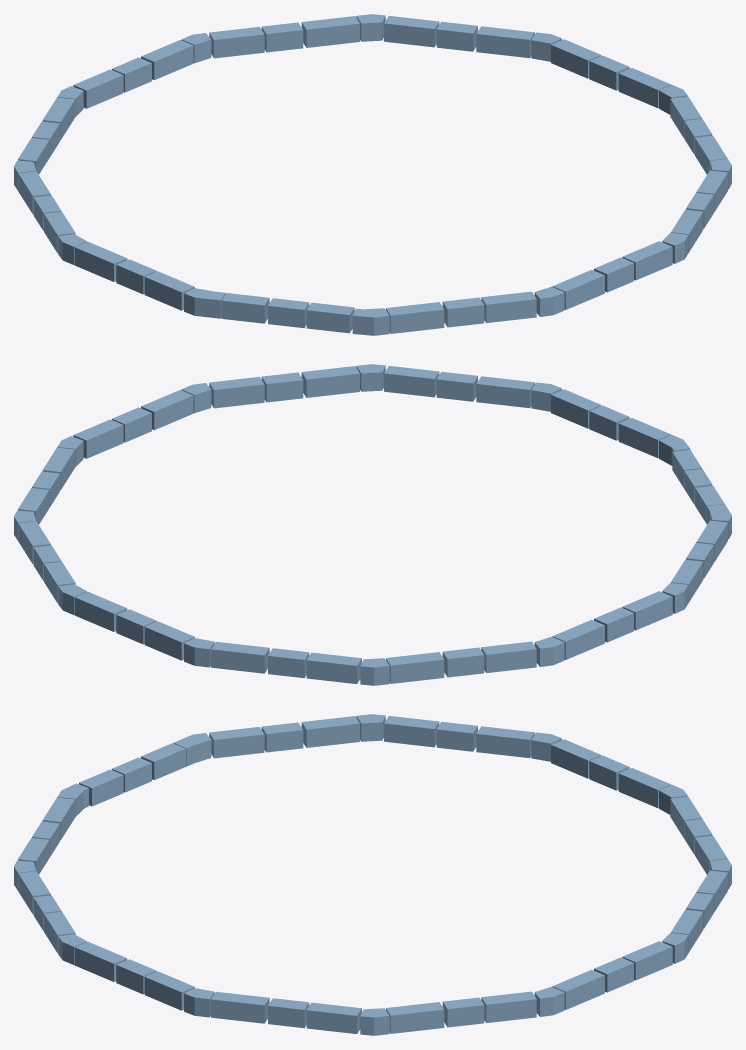
Rendered from Wall_Tower_Separator_01.fbx.
3 renders of one model, top to bottom at view 1: azimuth 30°, elevation 25°; view 2: azimuth 150°, elevation 25°; view 3: azimuth 270°, elevation 25°, orthographic.
Parts seen in each view (by area): view 1: Wall_TowerSeparator_01; view 2: Wall_TowerSeparator_01; view 3: Wall_TowerSeparator_01.
Boxes of the visible parts, x1,y1,x2,y2 form: Wall_TowerSeparator_01: (14, 14, 731, 335); Wall_TowerSeparator_01: (14, 364, 731, 685); Wall_TowerSeparator_01: (14, 714, 731, 1035).
Bounding box in the file's own units: 1378 × 38.77 × 1378.
